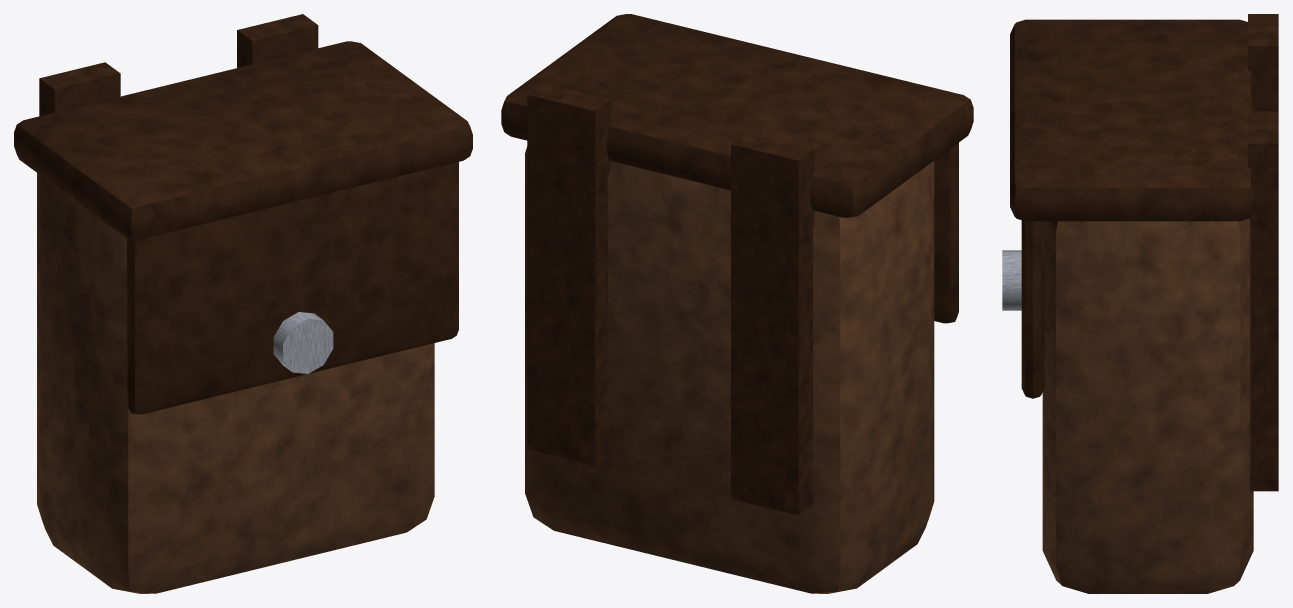
The model's file is pouch.gltf.
The picture shows the model from 3 angles, left to right: view 1: azimuth 30°, elevation 25°; view 2: azimuth 150°, elevation 25°; view 3: azimuth 270°, elevation 25°; orthographic projection. The views are drawn at different scales.
Visible parts, largest first — view 1: PouchMesh; view 2: PouchMesh; view 3: PouchMesh.
Boxes of the visible parts, <box> form: PouchMesh: <box>14,14,472,593</box>; PouchMesh: <box>501,14,973,593</box>; PouchMesh: <box>1002,14,1278,593</box>.
Bounding box in the file's own units: 0.106 × 0.13 × 0.072.
3 materials, 3 textured.
